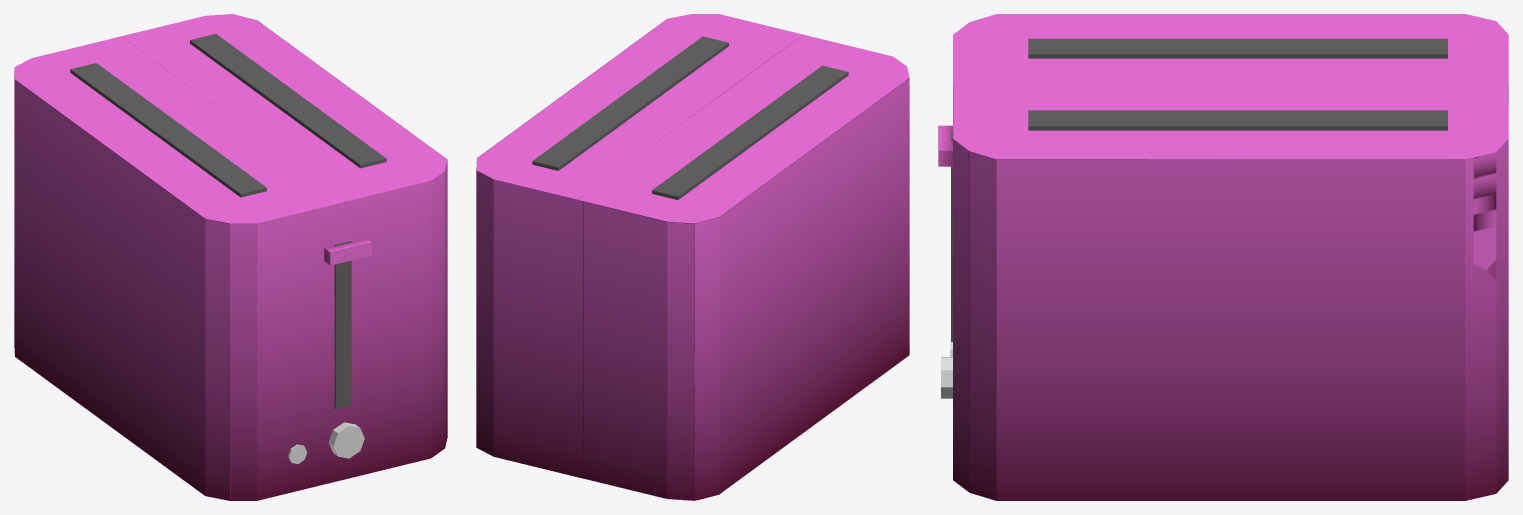
The model's file is Toaster.glb.
3 renders of one model, left to right at view 1: azimuth 30°, elevation 25°; view 2: azimuth 150°, elevation 25°; view 3: azimuth 270°, elevation 25°, orthographic. The views are drawn at different scales.
Visible parts, largest first — view 1: Cube, Plane.002, Plane, Cylinder, Plane.001; view 2: Cube, Plane.002; view 3: Cube, Plane.002.
Boxes of the visible parts, x1,y1,x2,y2 form: Cube: (14,14,447,500); Plane.002: (70,34,386,197); Plane: (334,241,351,409); Cylinder: (328,422,364,458); Plane.001: (324,238,371,265); Cube: (476,14,909,500); Plane.002: (532,36,848,199); Cube: (953,14,1508,500); Plane.002: (1028,38,1447,130).
Bounding box in the file's own units: 1.24 × 1.37 × 2.05.
Materials: 3 (2 with a texture image).
